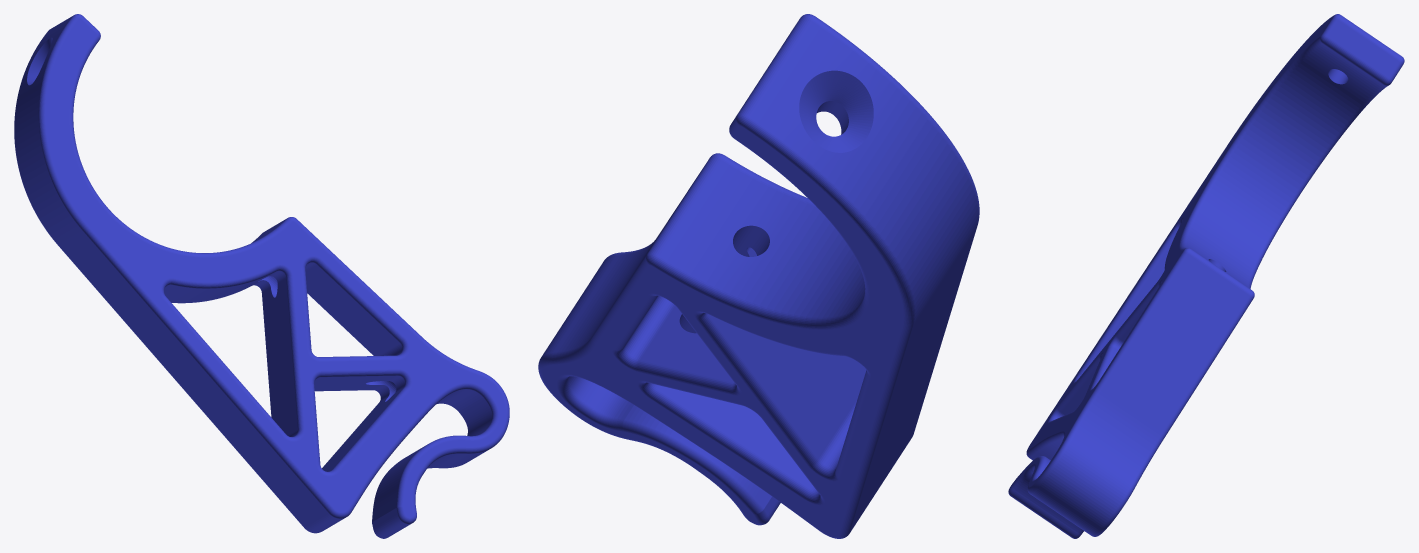
Rendered from curtainrodadaptortest.glb.
3 views of the same model, side by side, from view 1: azimuth 30°, elevation 25°; view 2: azimuth 150°, elevation 25°; view 3: azimuth 270°, elevation 25° (orthographic). The views are drawn at different scales.
Size of the model in its own units: 54.79 by 68.9 by 55.65.
